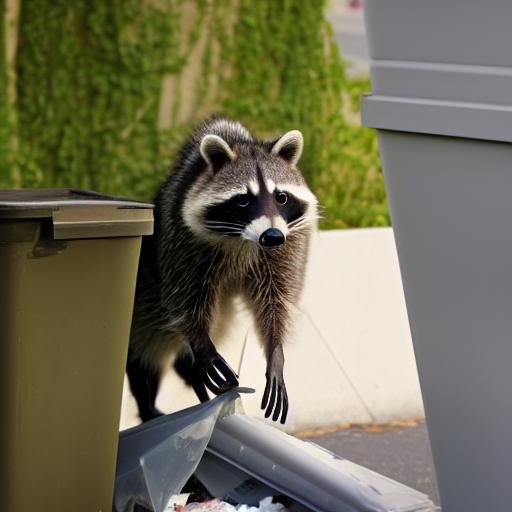raccoon: (122, 108, 330, 419)
